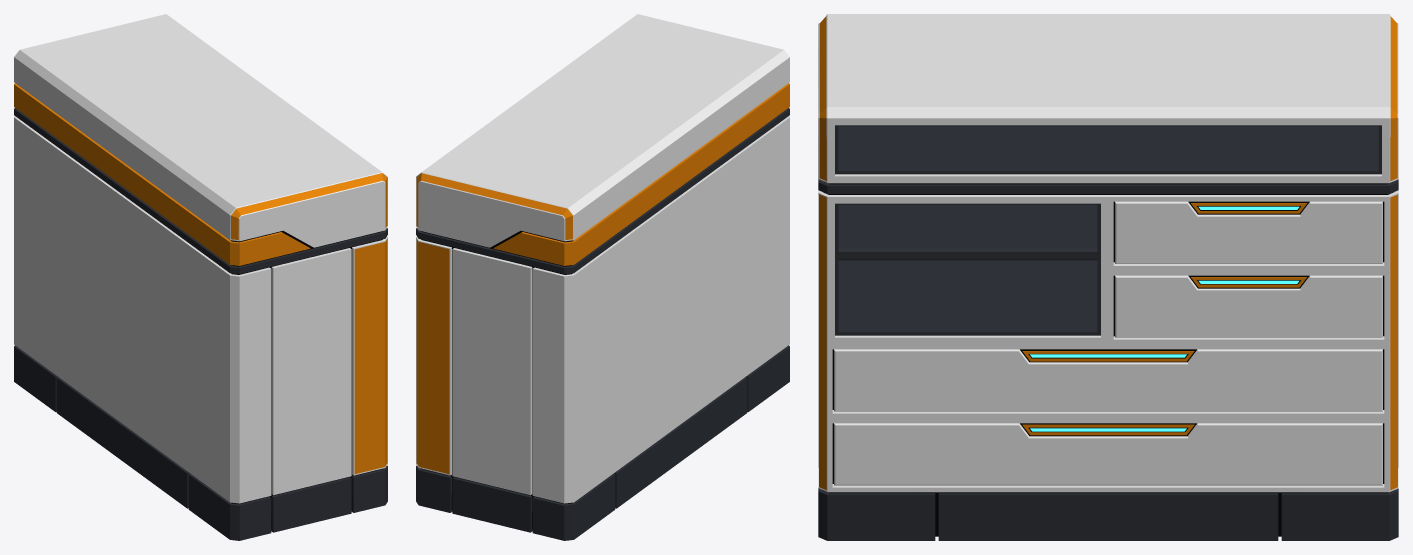
File: SM_Dresser_4Drawer.fbx
3 views of the same model, side by side, from view 1: azimuth 30°, elevation 25°; view 2: azimuth 150°, elevation 25°; view 3: azimuth 270°, elevation 25° (orthographic). The views are drawn at different scales.
Parts seen in each view (by area): view 1: SM_Dresser_4Drawer_Body; view 2: SM_Dresser_4Drawer_Body; view 3: SM_Dresser_4Drawer_Body, SM_Drawer_Large_A, SM_Drawer_Large_B, SM_Drawer_Small_A, SM_Drawer_Small_B.
Part boxes in pixels (x1,y1,x2,y2): SM_Dresser_4Drawer_Body: (14,14,387,540); SM_Dresser_4Drawer_Body: (416,14,789,540); SM_Dresser_4Drawer_Body: (818,14,1398,540); SM_Drawer_Large_A: (834,349,1382,411); SM_Drawer_Large_B: (834,423,1382,485); SM_Drawer_Small_A: (1115,201,1382,263); SM_Drawer_Small_B: (1115,275,1382,337).
Bounding box in the file's own units: 45 × 90 × 110.
